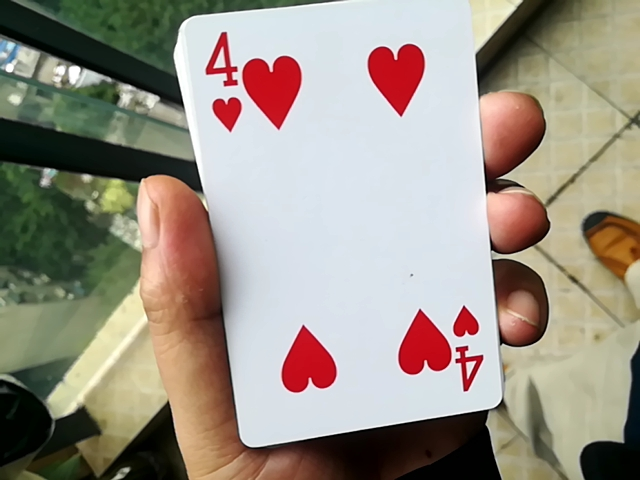hx 4: (156, 5, 496, 456)
